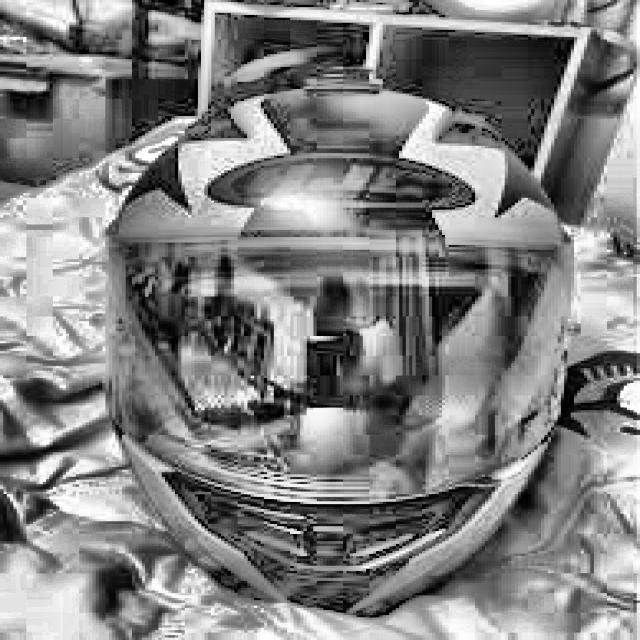Helmet: (122, 37, 571, 626)
